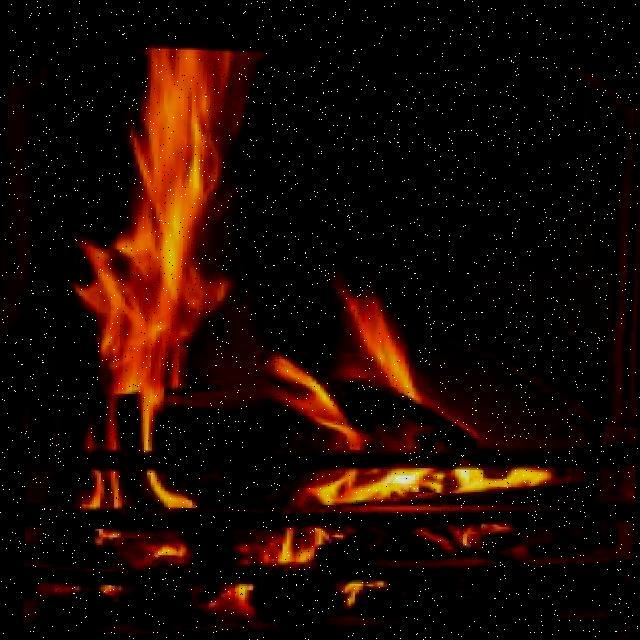Fire: (53, 45, 543, 597)
